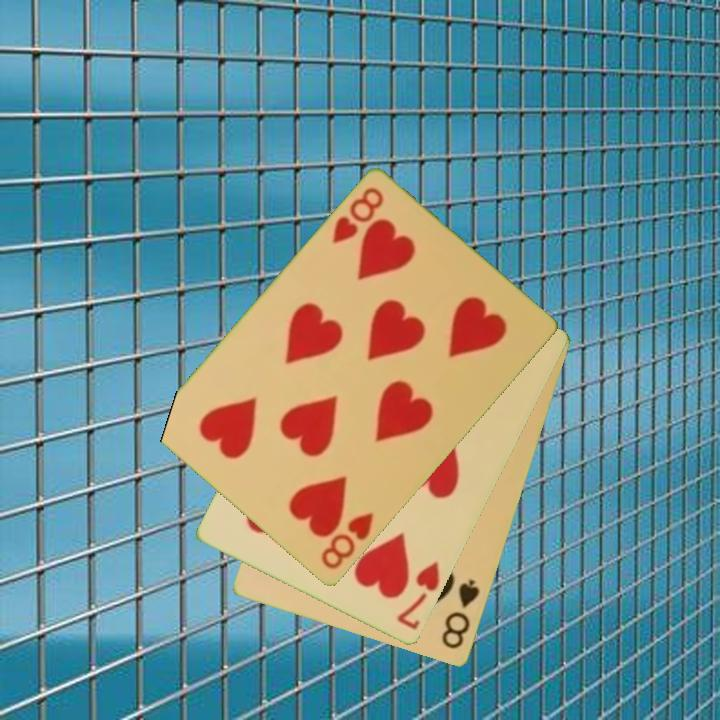7h: (394, 558, 443, 634)
8h: (318, 509, 377, 573), (328, 184, 387, 247)
8s: (438, 576, 483, 653)
